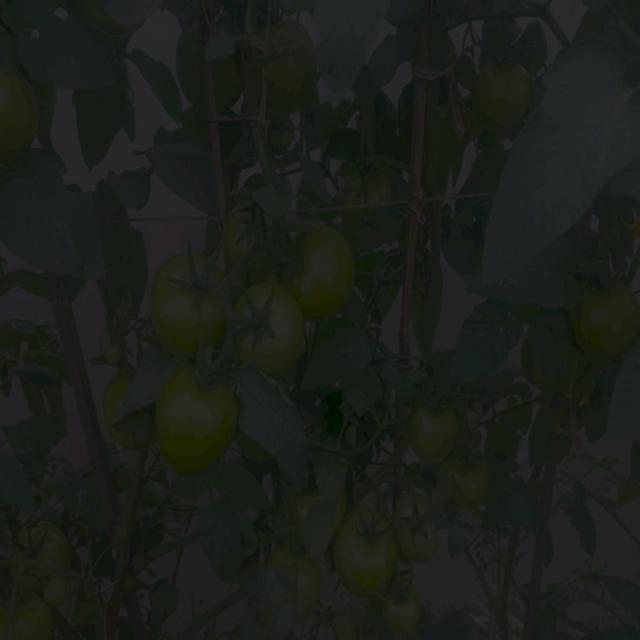tomato: (153, 369, 245, 472), (233, 284, 310, 374), (153, 252, 230, 339), (337, 506, 404, 600), (296, 229, 362, 317), (579, 280, 637, 355), (273, 33, 324, 107), (405, 394, 457, 463), (472, 64, 532, 122), (1, 72, 40, 161), (12, 523, 71, 577), (227, 216, 284, 271), (99, 373, 142, 445), (181, 20, 210, 113), (395, 505, 440, 559), (380, 579, 425, 631), (8, 596, 58, 640), (285, 555, 322, 604), (523, 327, 549, 390), (345, 168, 390, 204), (455, 464, 487, 504), (276, 115, 305, 153), (47, 570, 69, 610), (396, 559, 415, 586)
